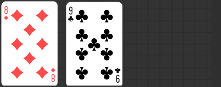9C: (67, 5, 74, 23)
